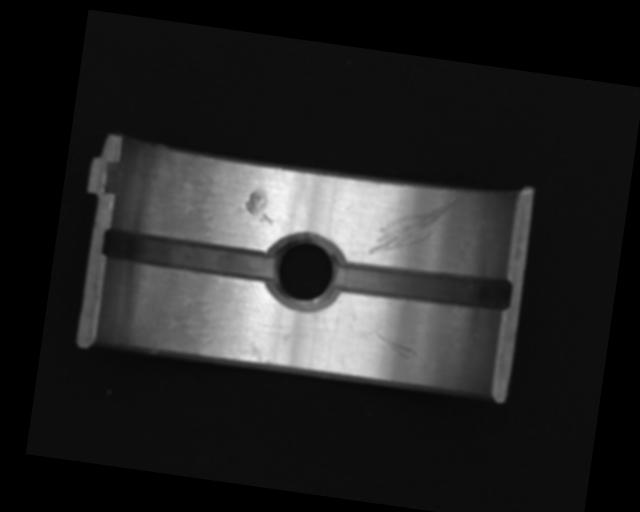bruise: (242, 189, 276, 225)
gap: (332, 256, 512, 314), (102, 228, 278, 283)
hole: (264, 232, 342, 313)
nick: (367, 184, 457, 264), (362, 326, 419, 361)
